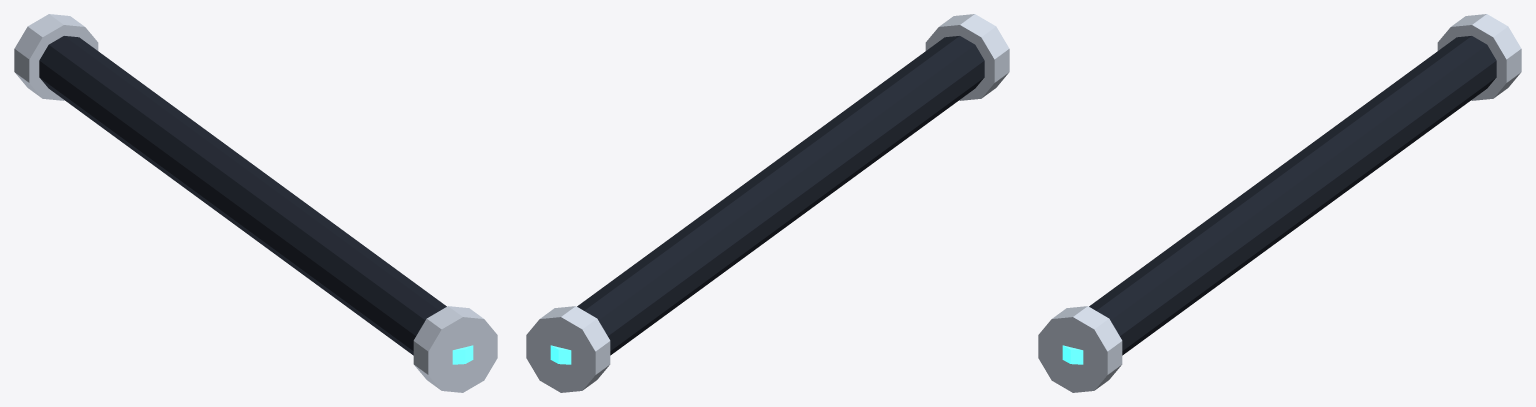
File: mod_tuberia.fbx
3 renders of one model, left to right at view 1: azimuth 30°, elevation 25°; view 2: azimuth 150°, elevation 25°; view 3: azimuth 330°, elevation 25°, orthographic.
Parts seen in each view (by area): view 1: Tuberia; view 2: Tuberia; view 3: Tuberia.
Part boxes in pixels (bbox=[...]): Tuberia: bbox=[14, 14, 497, 392]; Tuberia: bbox=[526, 14, 1009, 392]; Tuberia: bbox=[1038, 14, 1521, 392].
Size of the model in its own units: 0.1118 by 0.1176 by 1.18.
